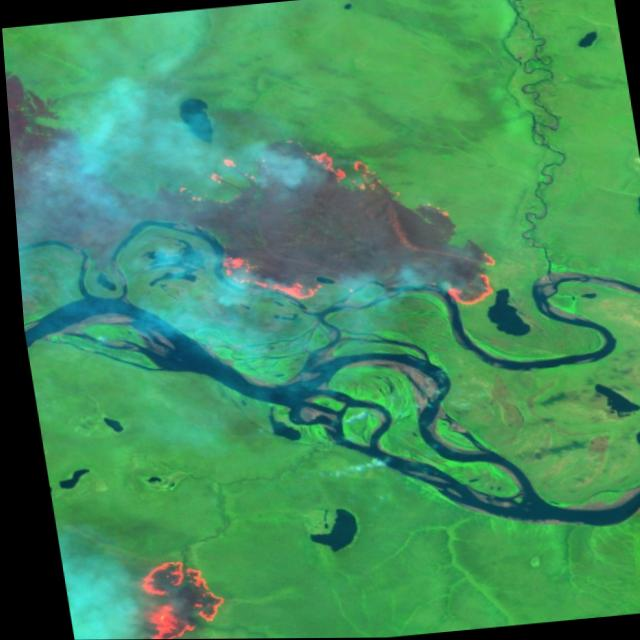fire: (158, 130, 503, 327), (114, 550, 235, 640)
